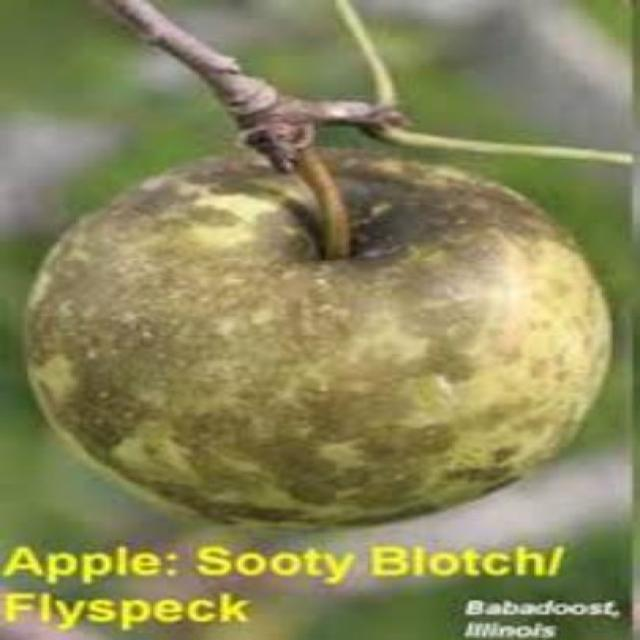Rotten Apple: (22, 123, 613, 518)
